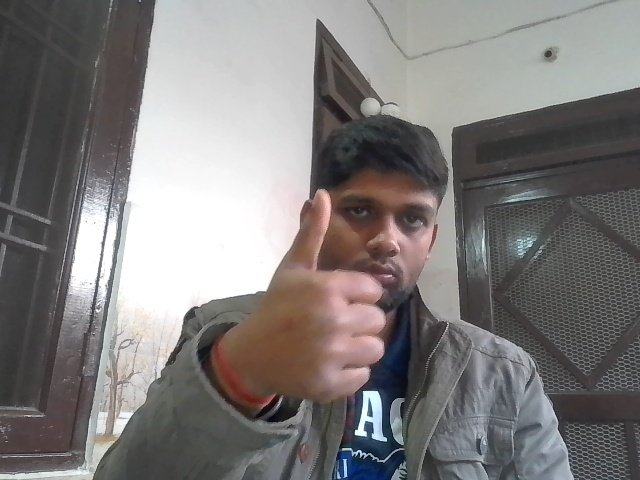BestOfLuck: (272, 186, 386, 406)
